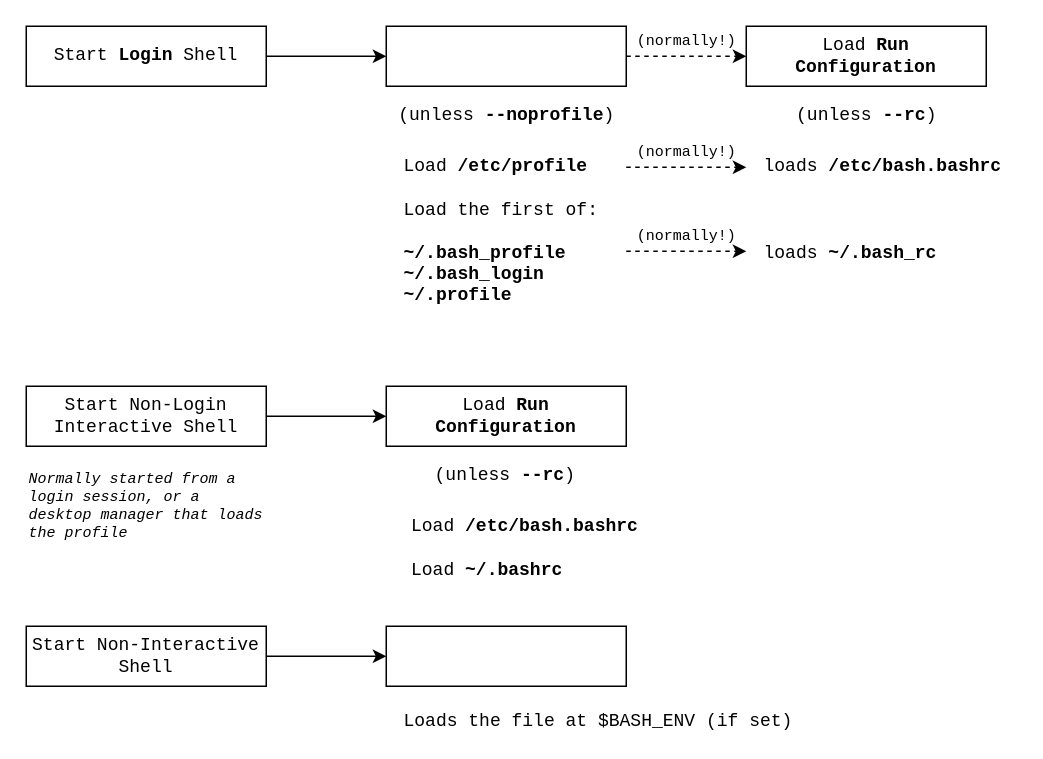
The diagram is 1043 pixels wide and 759 high, and some of its shapes have lost their labels. The centre of each missing label's shape, as x and y in pixels:
"Load $BASH_ENV" goes at point (505, 655).
"Load Profile" goes at point (505, 55).
